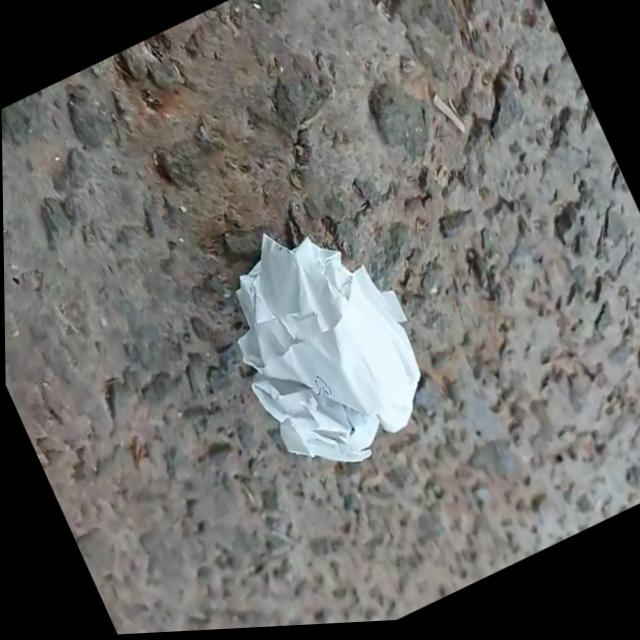paper: (237, 235, 419, 461)
